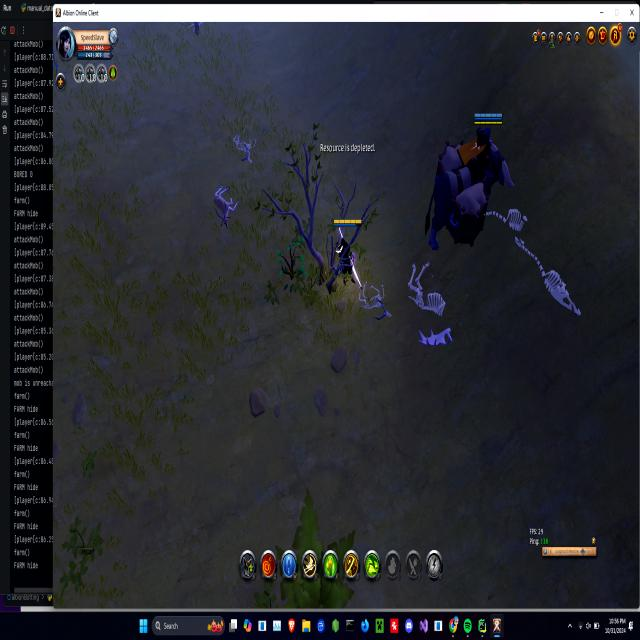mob: (212, 182, 238, 226)
red: (424, 101, 509, 253), (331, 216, 360, 284)
